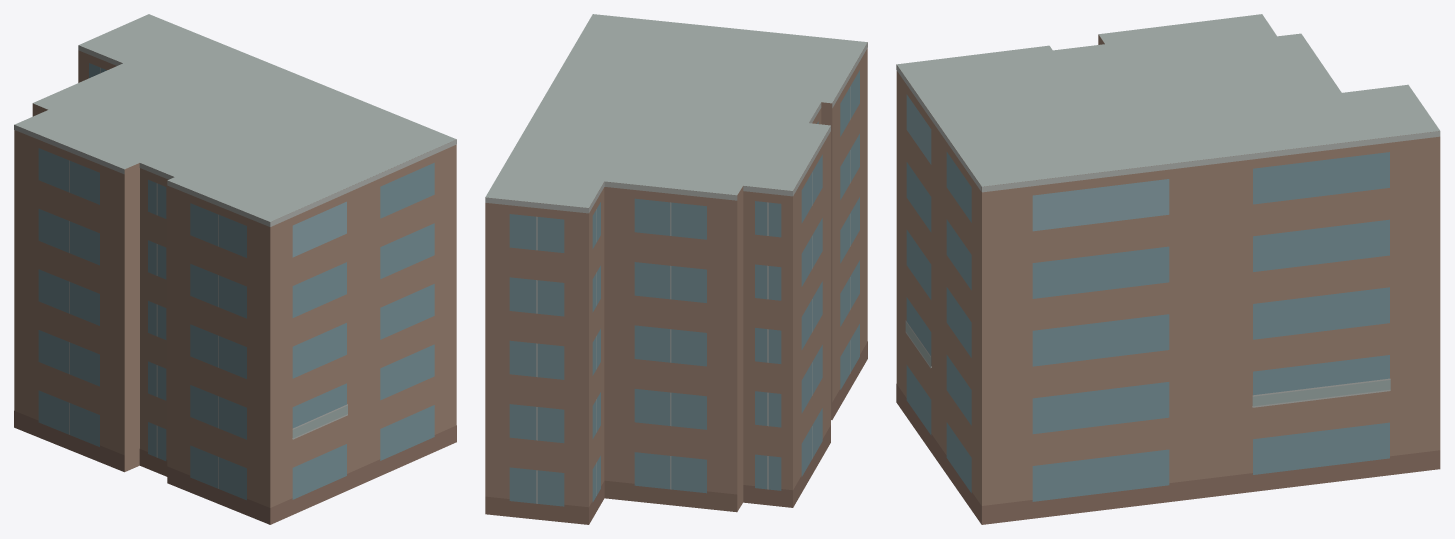
File: survey-upis-32605955.glb
3 renders of one model, left to right at view 1: azimuth 30°, elevation 25°; view 2: azimuth 150°, elevation 25°; view 3: azimuth 270°, elevation 25°, orthographic. The views are drawn at different scales.
Visible parts, largest first — view 1: survey-upis-32605955.tmp; view 2: survey-upis-32605955.tmp; view 3: survey-upis-32605955.tmp.
Boxes of the visible parts, x1,y1,x2,y2 form: survey-upis-32605955.tmp: [14, 14, 456, 524]; survey-upis-32605955.tmp: [485, 14, 867, 524]; survey-upis-32605955.tmp: [896, 14, 1440, 524].
Size of the model in its own units: 15.78 by 14.4 by 21.
